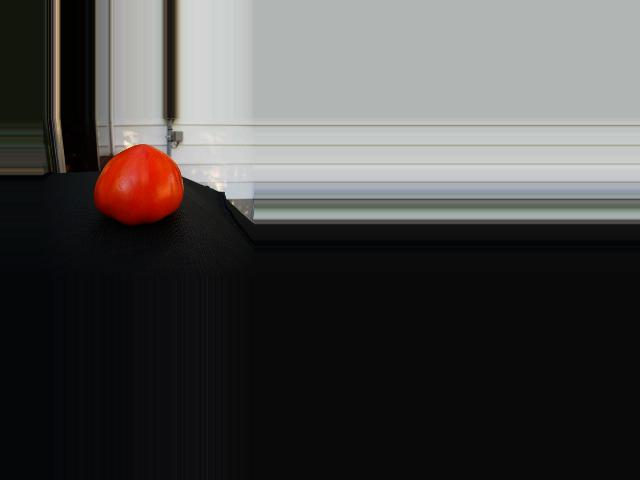tomato: (94, 143, 183, 225)
